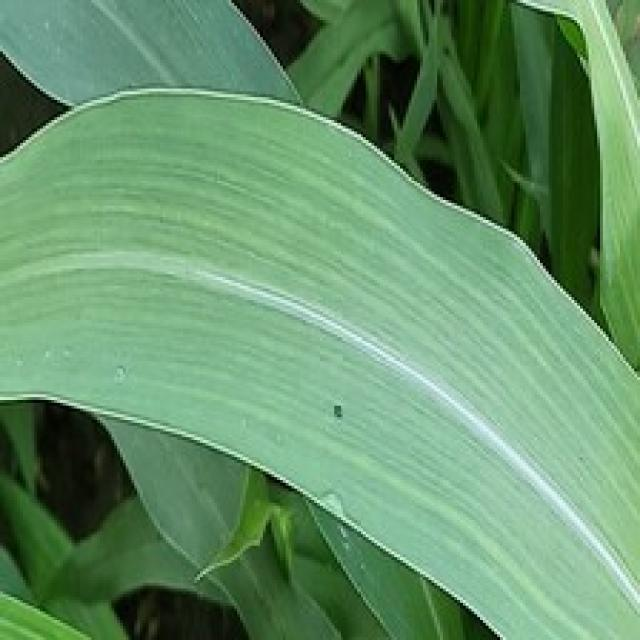Corn: (0, 80, 637, 637), (0, 0, 305, 111)
